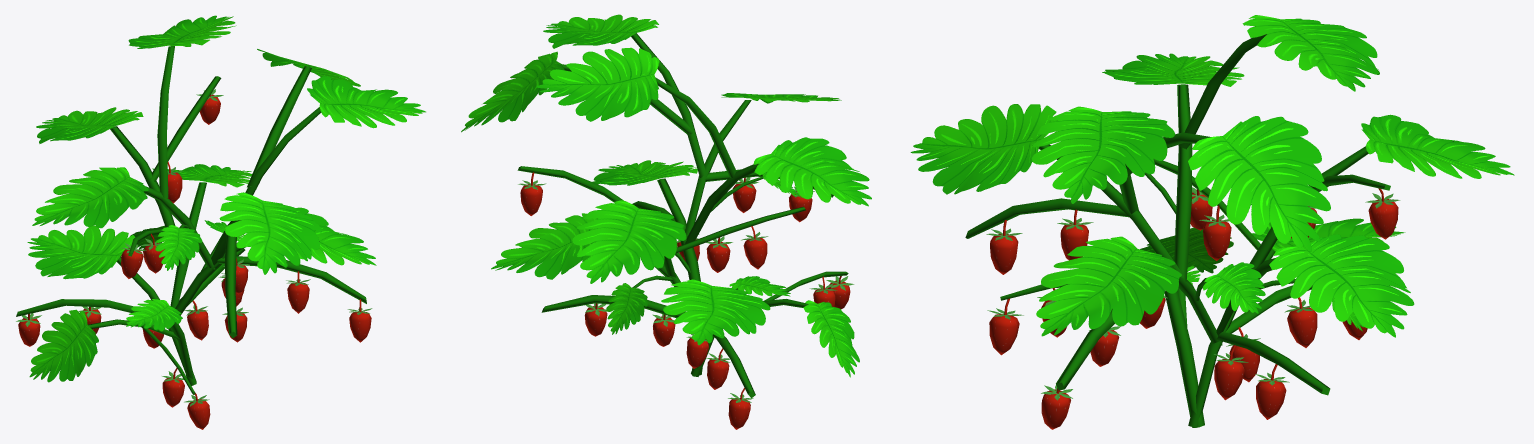
Rendered from Strawberries Stage 2.fbx.
3 renders of one model, left to right at view 1: azimuth 30°, elevation 25°; view 2: azimuth 150°, elevation 25°; view 3: azimuth 270°, elevation 25°, orthographic. The views are drawn at different scales.
Visible parts, largest first — view 1: polySurface109, polySurface110, polySurface104, polySurface117, polySurface118, polySurface116, polySurface111, polySurface106, polySurface107, polySurface119, polySurface105, polySurface137 (+14 smaller); view 2: polySurface116, polySurface111, polySurface110, polySurface104, polySurface107, polySurface117, polySurface119, polySurface106, polySurface118, polySurface109, polySurface136, polySurface105 (+17 smaller); view 3: polySurface119, polySurface106, polySurface107, polySurface117, polySurface109, polySurface116, polySurface111, polySurface110, polySurface104, polySurface112, polySurface105, polySurface126 (+18 smaller).
Part boxes in pixels (x1=…): polySurface109: x1=211, y1=192, x2=322, y2=274; polySurface110: x1=32, y1=167, x2=215, y2=269; polySurface104: x1=27, y1=225, x2=196, y2=385; polySurface117: x1=245, y1=76, x2=425, y2=195; polySurface118: x1=29, y1=309, x2=180, y2=382; polySurface116: x1=128, y1=15, x2=236, y2=198; polySurface111: x1=36, y1=107, x2=180, y2=265; polySurface106: x1=175, y1=207, x2=376, y2=315; polySurface107: x1=152, y1=164, x2=259, y2=308; polySurface119: x1=247, y1=49, x2=360, y2=189; polySurface105: x1=126, y1=299, x2=193, y2=379; polySurface137: x1=155, y1=224, x2=202, y2=270; polySurface116: x1=536, y1=47, x2=736, y2=177; polySurface111: x1=572, y1=200, x2=686, y2=283; polySurface110: x1=685, y1=137, x2=871, y2=243; polySurface104: x1=661, y1=279, x2=770, y2=375; polySurface107: x1=491, y1=213, x2=680, y2=286; polySurface117: x1=543, y1=14, x2=705, y2=177; polySurface119: x1=461, y1=51, x2=694, y2=134; polySurface106: x1=592, y1=160, x2=700, y2=281; polySurface118: x1=763, y1=299, x2=859, y2=377; polySurface109: x1=684, y1=93, x2=841, y2=241; polySurface136: x1=606, y1=275, x2=673, y2=334; polySurface105: x1=691, y1=276, x2=790, y2=376; polySurface119: x1=1125, y1=116, x2=1330, y2=251; polySurface106: x1=1036, y1=236, x2=1222, y2=345; polySurface107: x1=1216, y1=234, x2=1414, y2=337; polySurface117: x1=1031, y1=106, x2=1174, y2=214; polySurface109: x1=910, y1=104, x2=1183, y2=277; polySurface116: x1=1178, y1=15, x2=1379, y2=149; polySurface111: x1=1249, y1=114, x2=1514, y2=269; polySurface110: x1=1102, y1=53, x2=1244, y2=281; polySurface104: x1=1188, y1=218, x2=1405, y2=427; polySurface112: x1=1194, y1=262, x2=1265, y2=313; polySurface105: x1=1164, y1=266, x2=1204, y2=427; polySurface126: x1=965, y1=198, x2=1132, y2=238.
Size of the model in its own units: 0.5989 by 0.5169 by 0.6751.
Materials: 3 (3 with a texture image).
